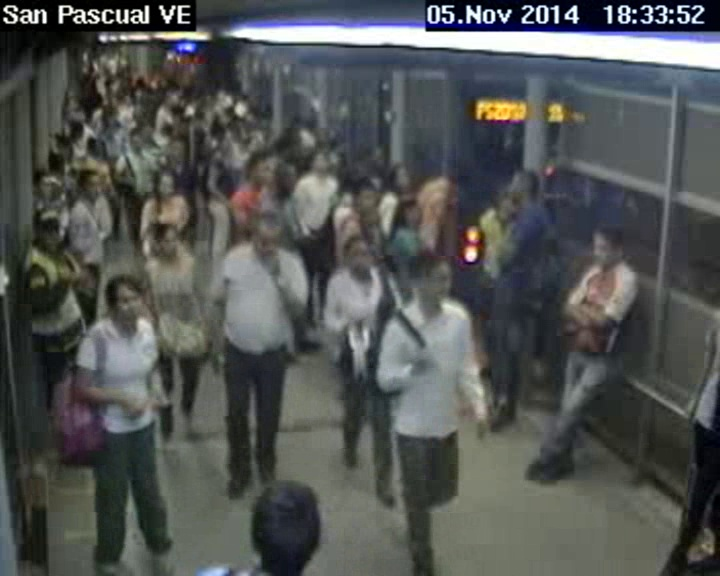person: (247, 477, 338, 576), (97, 265, 147, 333), (402, 250, 453, 316), (246, 208, 283, 265), (590, 220, 628, 271), (146, 216, 179, 265), (27, 204, 60, 253), (505, 168, 541, 209), (340, 232, 372, 275), (267, 156, 297, 198), (242, 151, 270, 193), (153, 165, 180, 207), (392, 194, 419, 231), (77, 167, 103, 201), (350, 181, 376, 215), (163, 133, 189, 164), (389, 162, 414, 193), (32, 165, 53, 201), (358, 206, 380, 237), (307, 150, 329, 179), (51, 132, 71, 159), (69, 119, 89, 144), (210, 141, 226, 163), (49, 150, 63, 175), (83, 138, 99, 157), (127, 134, 143, 151)
